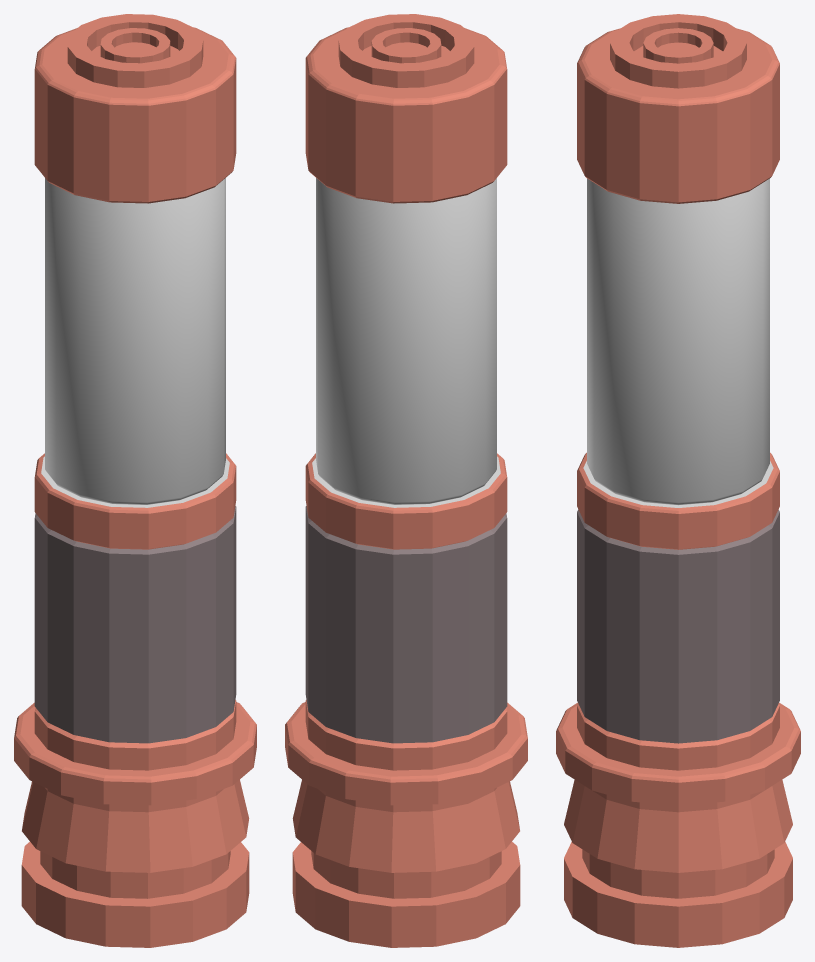
File: tomato_container.fbx
3 views of the same model, side by side, from view 1: azimuth 30°, elevation 25°; view 2: azimuth 150°, elevation 25°; view 3: azimuth 270°, elevation 25° (orthographic).
Visible parts, largest first — view 1: Circle, Circle.007; view 2: Circle, Circle.007; view 3: Circle, Circle.007.
Part boxes in pixels (x1,y1,x2,y2): Circle: [14, 14, 256, 947]; Circle.007: [45, 178, 225, 504]; Circle: [285, 14, 527, 947]; Circle.007: [316, 178, 496, 504]; Circle: [556, 14, 800, 947]; Circle.007: [587, 178, 769, 505].
Bounding box in the file's own units: 77.43 × 299 × 77.43.
